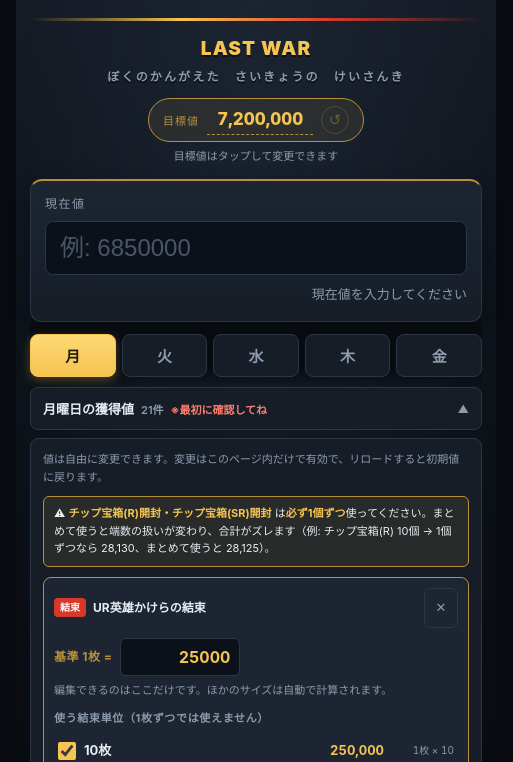
Calc: グループ（加速・結束） › 火曜には結束グループが2つ出て、1個の値から結束単位が計算される
The image size is (513, 762).
Click the tab named "火曜日" at x=164, y=356, box [122, 334, 207, 377]
(page scrolled)
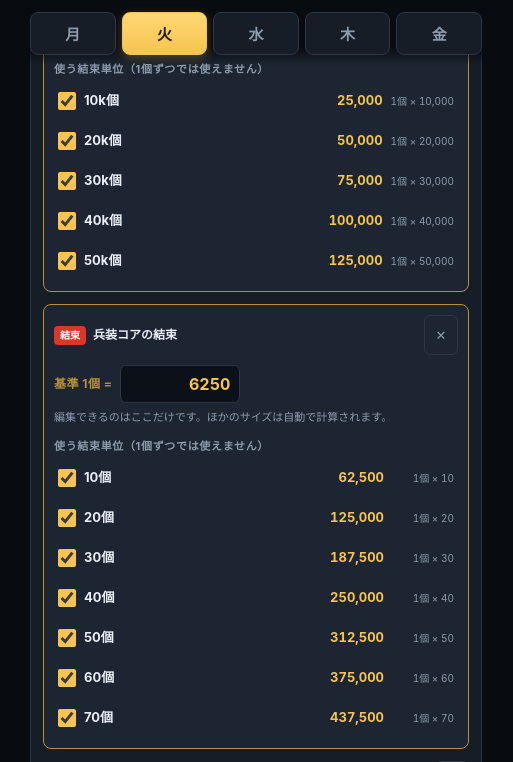
Now the text "兵装コアの結束" is shown, box [93, 326, 177, 344]
Now the field named "兵装コアの基準値（1個あたり）" holds "6250", box [120, 365, 240, 403]
